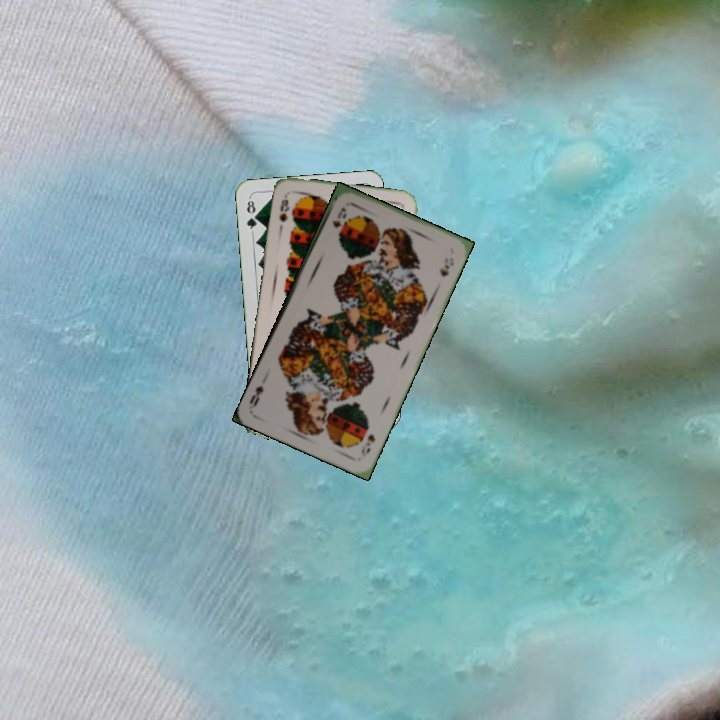G8: (242, 194, 260, 235)
S8: (275, 191, 292, 224)
SO: (357, 430, 378, 459), (328, 203, 349, 230)
